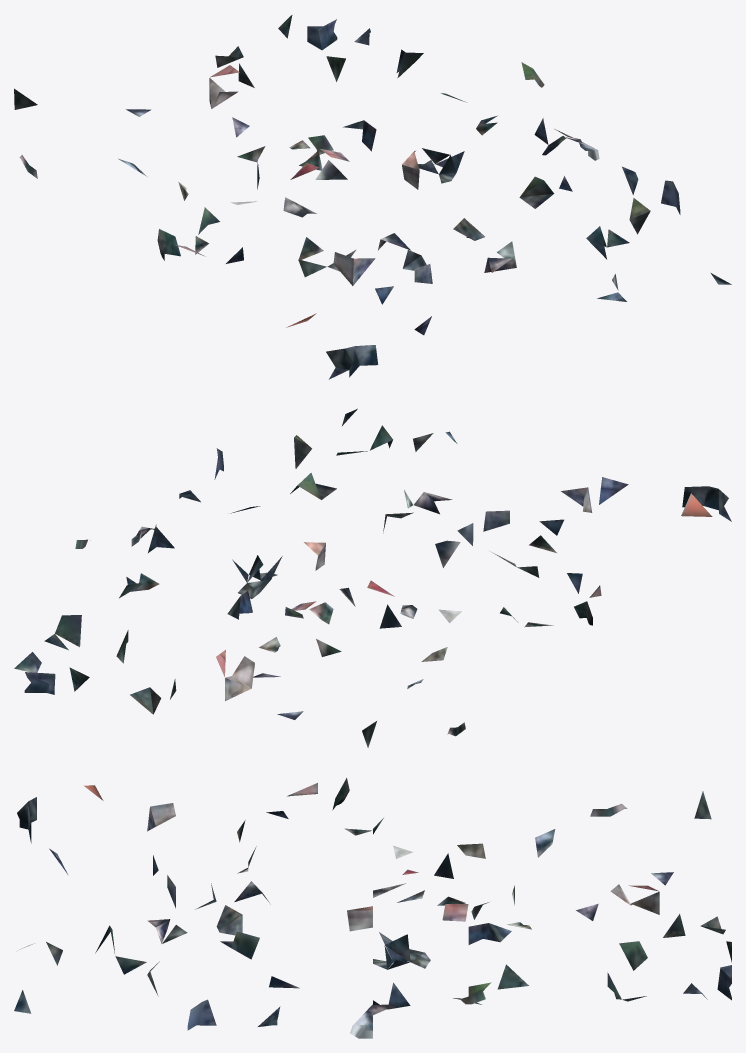
The picture shows the model from 3 angles, top to bottom: view 1: azimuth 30°, elevation 25°; view 2: azimuth 150°, elevation 25°; view 3: azimuth 270°, elevation 25°; orthographic projection.
Visible parts, largest first — view 1: 304362727043617055_1; view 2: 304362727043617055_1; view 3: 304362727043617055_1.
Boxes of the visible parts, <box> form: 304362727043617055_1: <box>14,15,731,379</box>; 304362727043617055_1: <box>14,408,731,747</box>; 304362727043617055_1: <box>14,778,731,1038</box>.
Size of the model in its own units: 109 by 14.78 by 153.
1 material, 1 textured.
